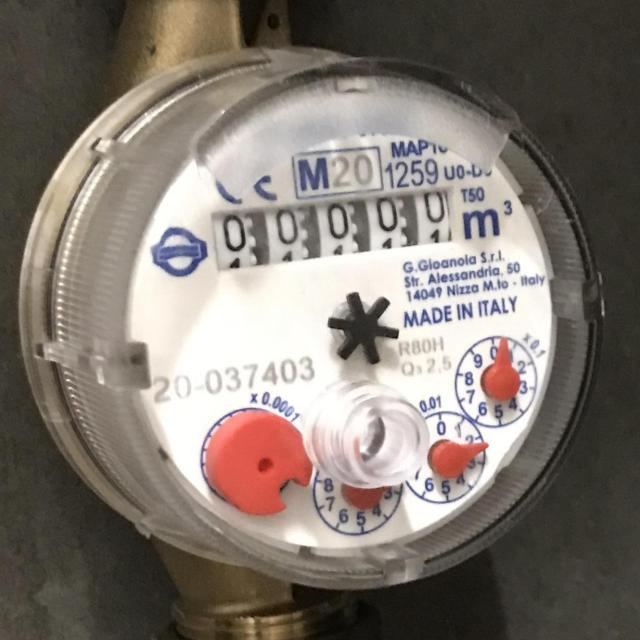gaz_meter: (126, 71, 555, 548)
indication: (203, 184, 456, 273)
